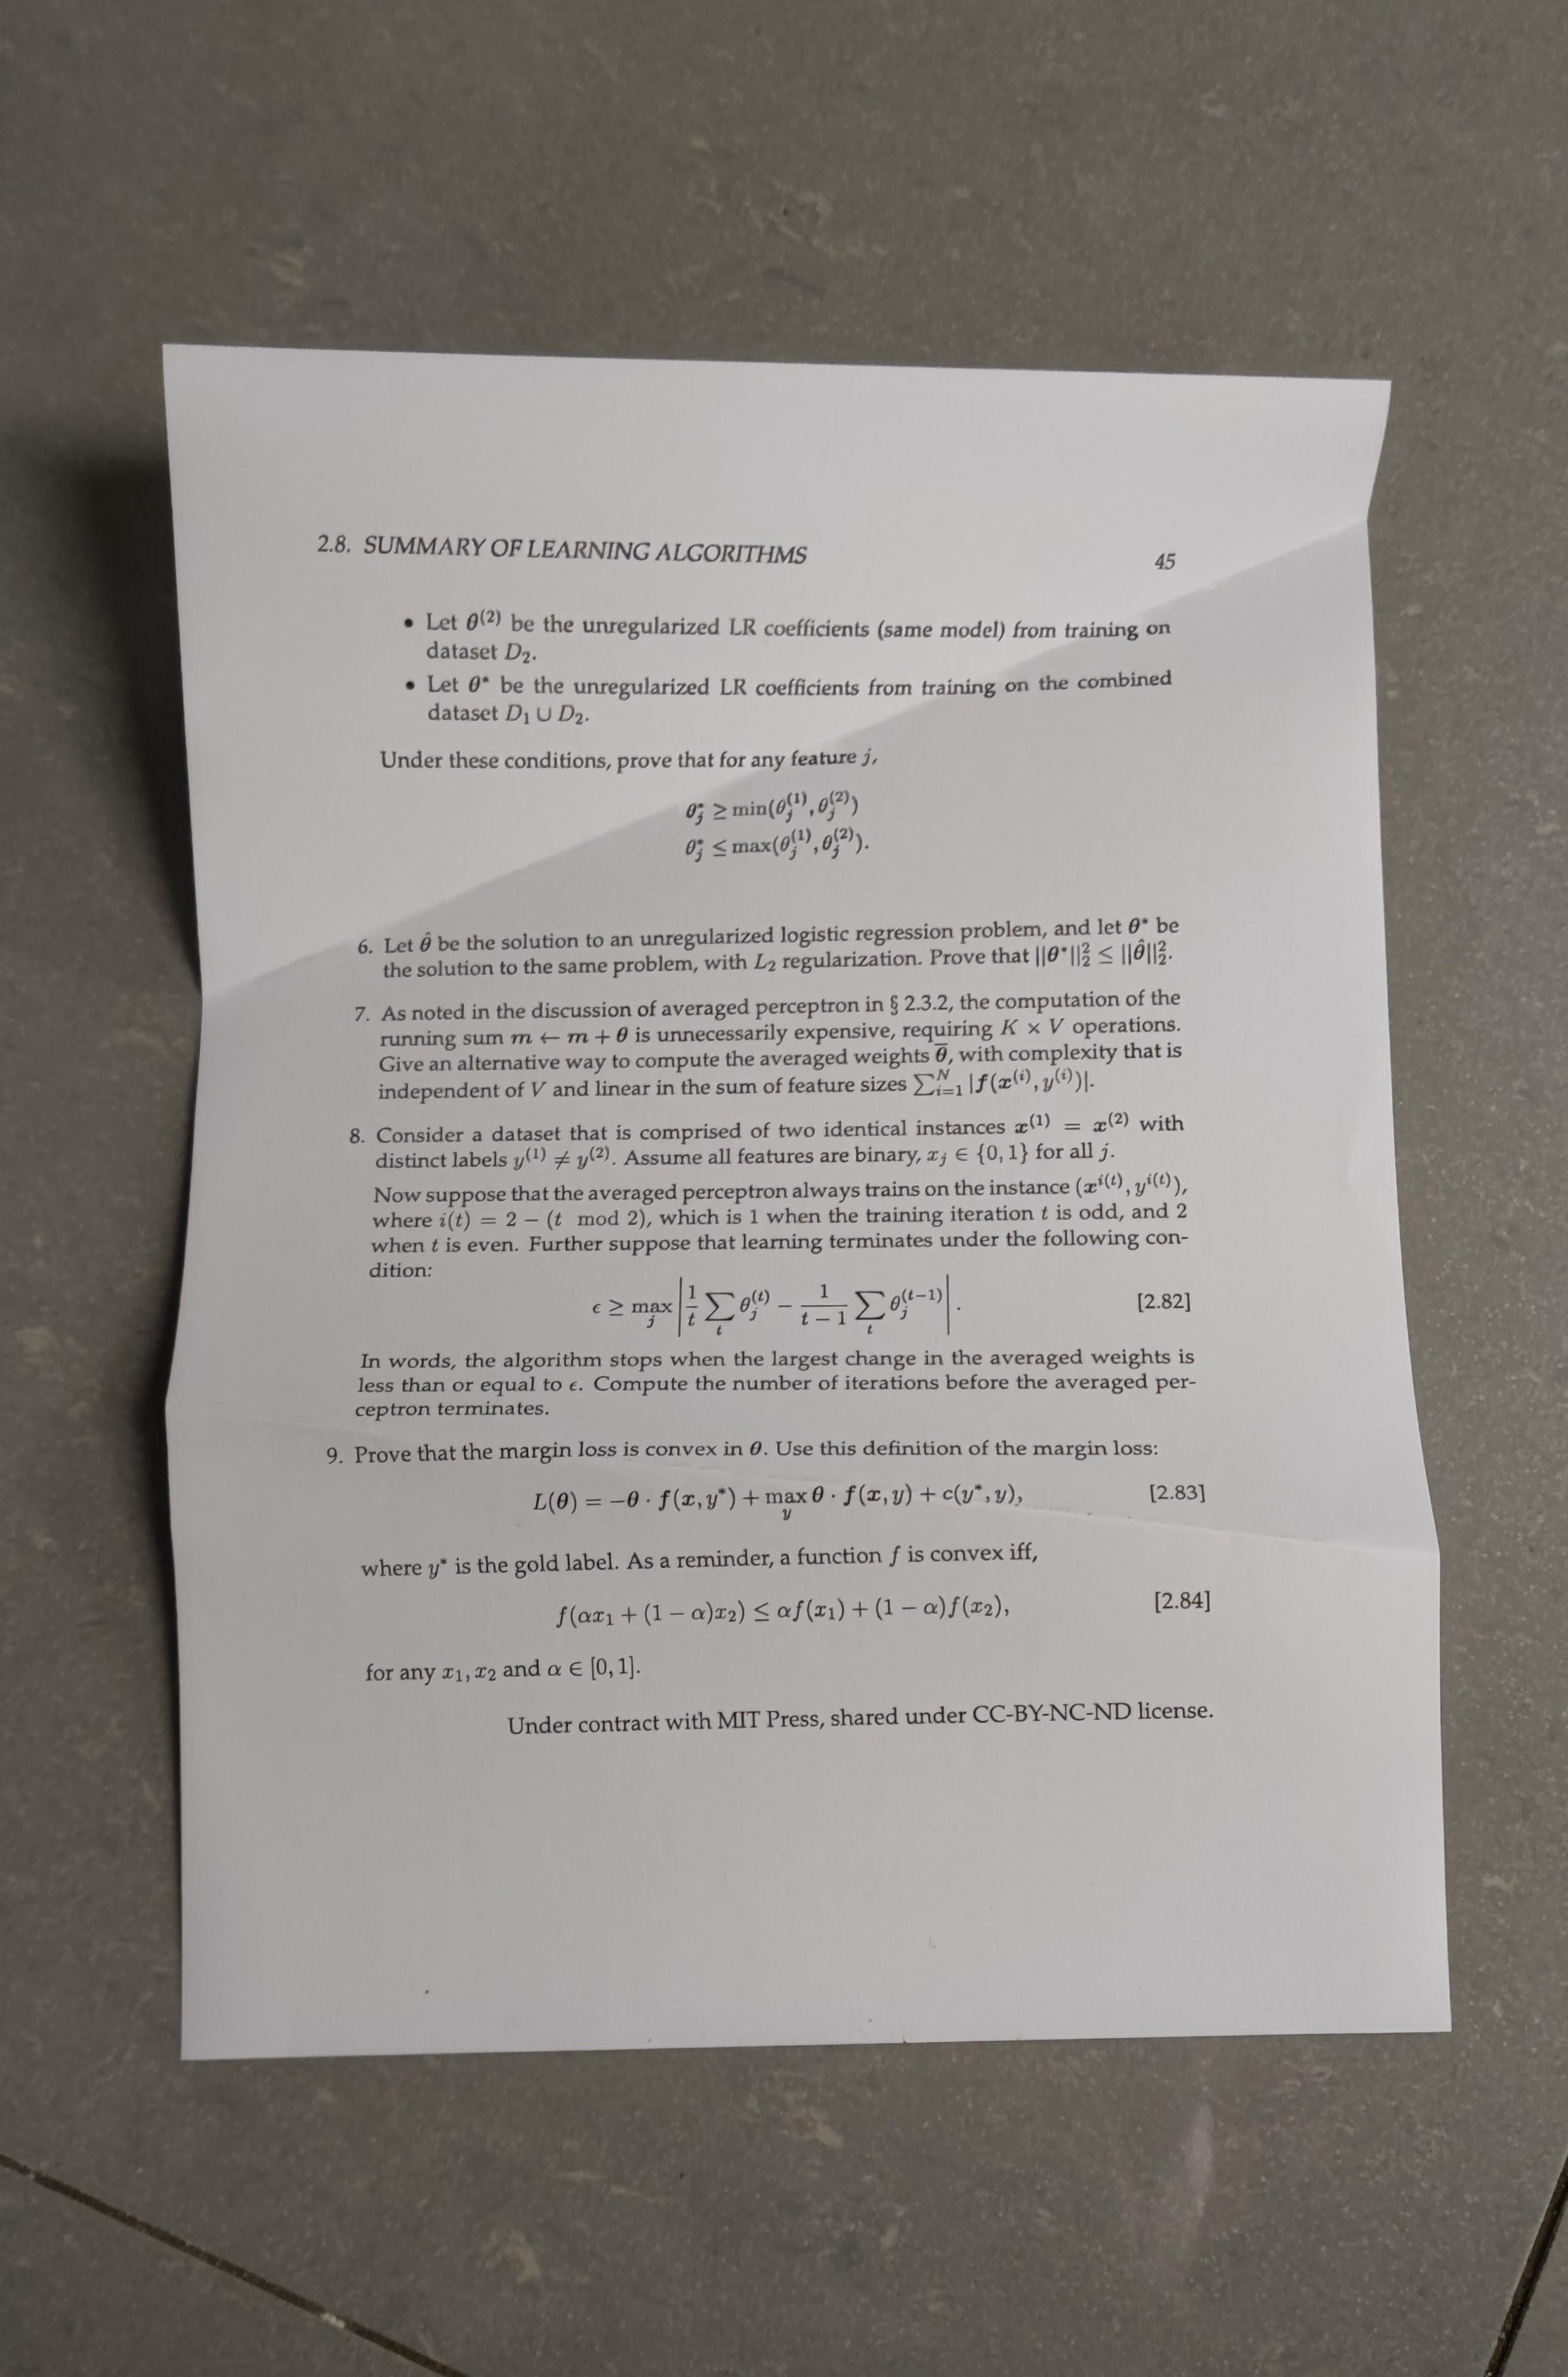paper: (68, 215, 1568, 2351)
